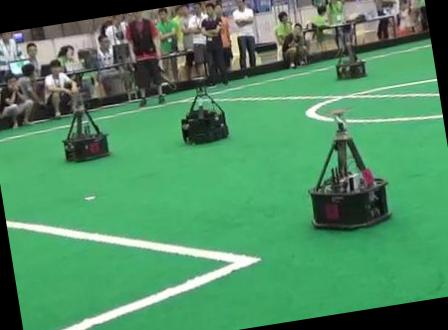person: (126, 12, 164, 106)
robot: (309, 121, 390, 228), (181, 86, 228, 143), (63, 111, 109, 160), (337, 28, 368, 78), (336, 60, 366, 79)
